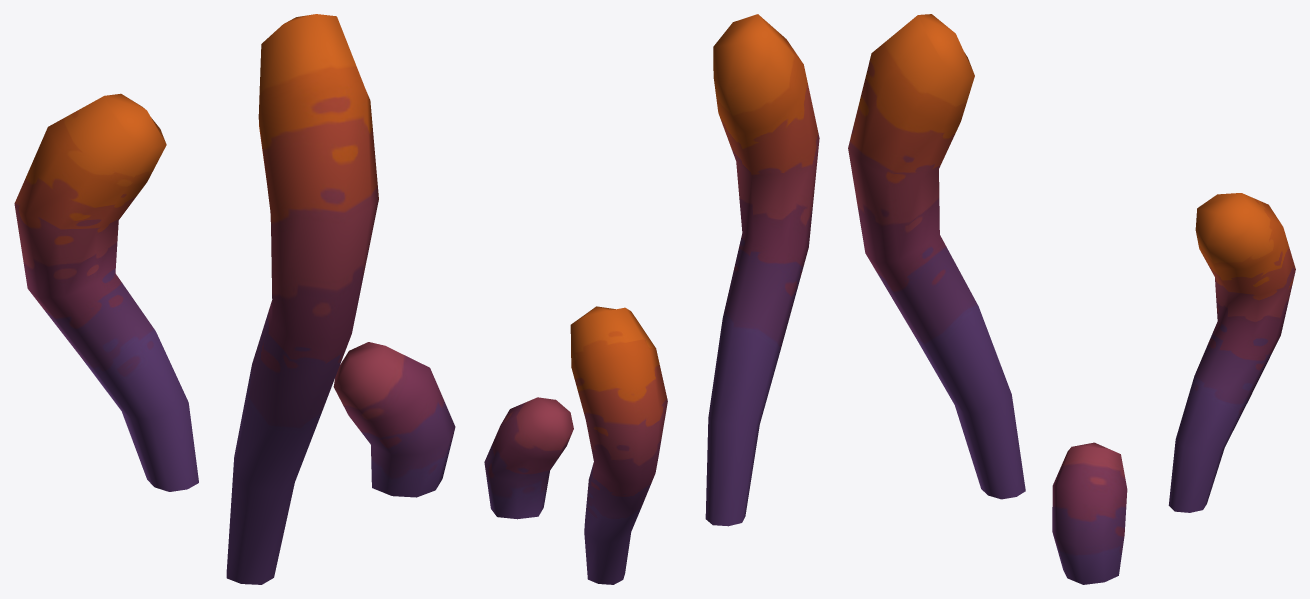
Rendered from Veg_01.FBX.
3 renders of one model, left to right at view 1: azimuth 30°, elevation 25°; view 2: azimuth 150°, elevation 25°; view 3: azimuth 270°, elevation 25°, orthographic. The views are drawn at different scales.
Visible parts, largest first — view 1: Veg_01; view 2: Veg_01; view 3: Veg_01.
Part boxes in pixels (bbox=[...]): Veg_01: bbox=[14, 14, 455, 584]; Veg_01: bbox=[484, 14, 819, 584]; Veg_01: bbox=[848, 14, 1295, 584].
Bounding box in the file's own units: 15.92 × 28.28 × 23.92.
